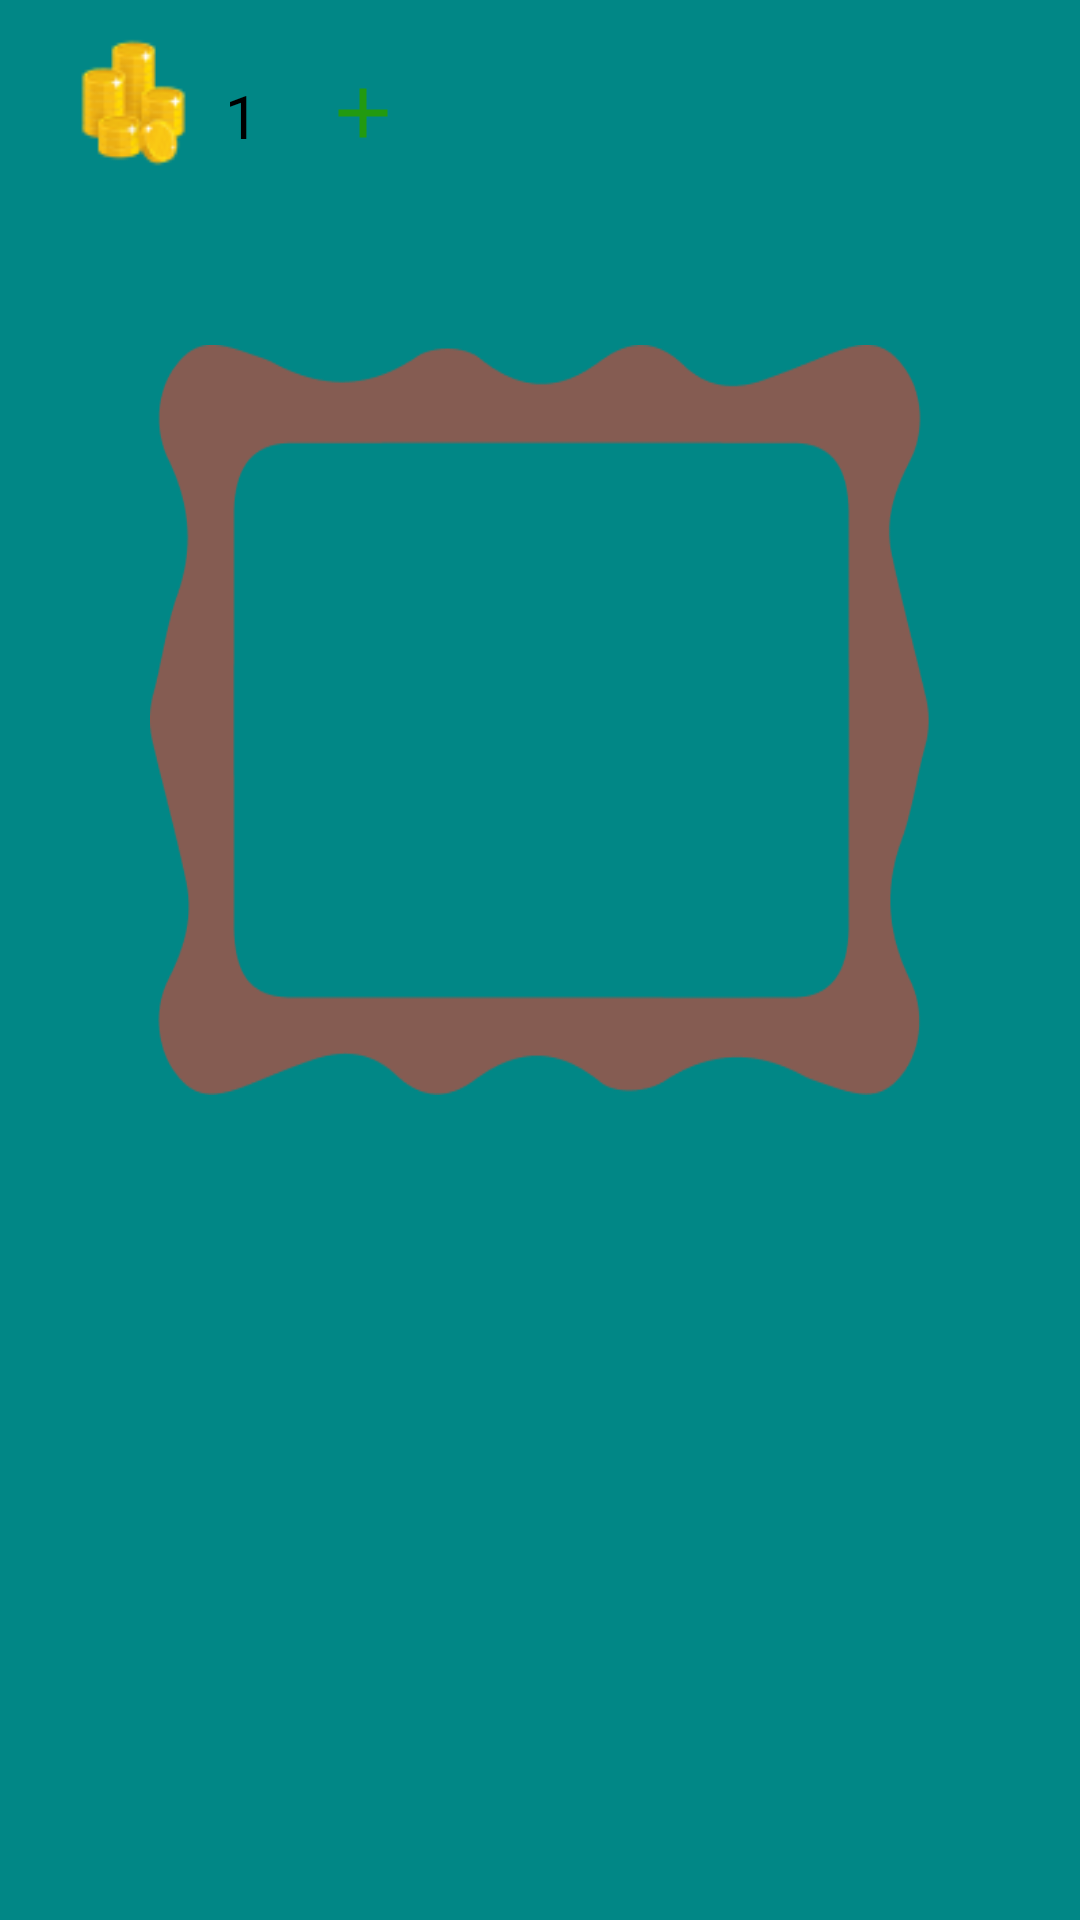

Point at icon controls on the screen. Image size 1080w x 1920h, points as (x,y).
coin: (133,102)
